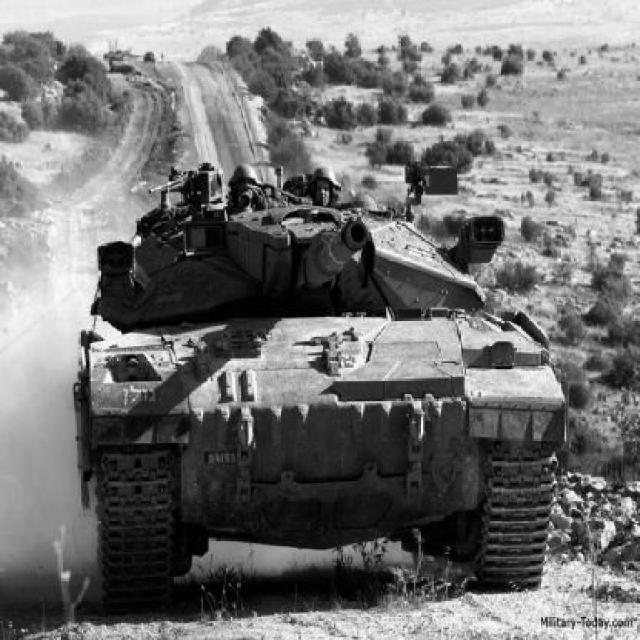Tank: (72, 161, 572, 616), (104, 50, 156, 72)
